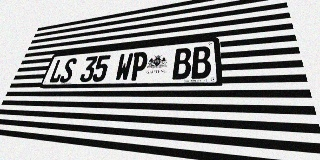3: (79, 56, 98, 82)
5: (91, 55, 111, 82)
B: (191, 46, 211, 79), (172, 47, 191, 79)
L: (48, 59, 67, 83)
P: (129, 51, 149, 81)
S: (59, 58, 78, 83)
W: (114, 53, 134, 81)
